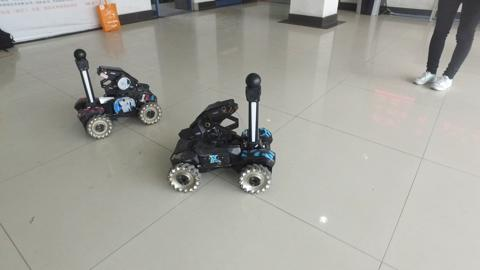chariot: (163, 70, 283, 200), (66, 41, 166, 144)
